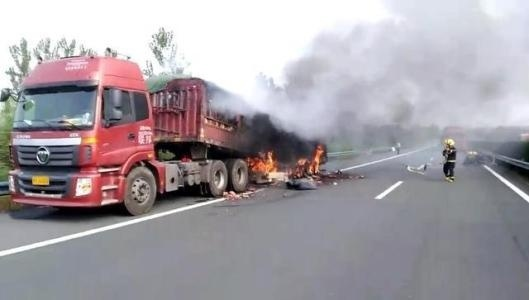fire: (235, 139, 327, 183)
